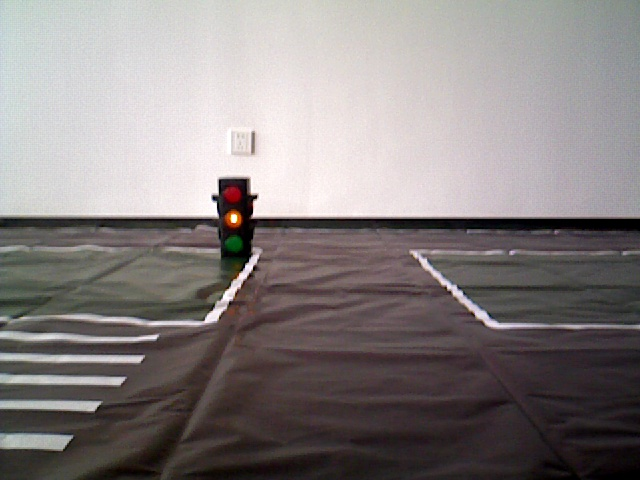yellow: (215, 177, 255, 261)
